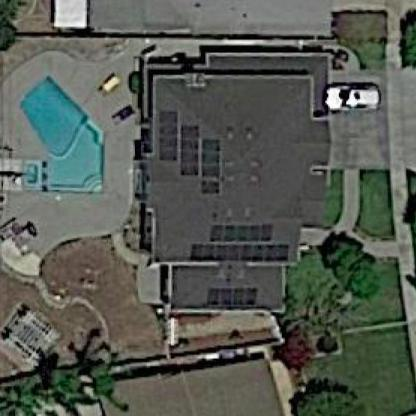car: (316, 77, 385, 121)
solar_panel: (184, 235, 297, 266), (175, 118, 201, 183), (206, 283, 263, 311), (156, 103, 180, 168), (205, 223, 280, 243), (200, 135, 220, 199)
swimming_pool: (14, 69, 116, 202)
